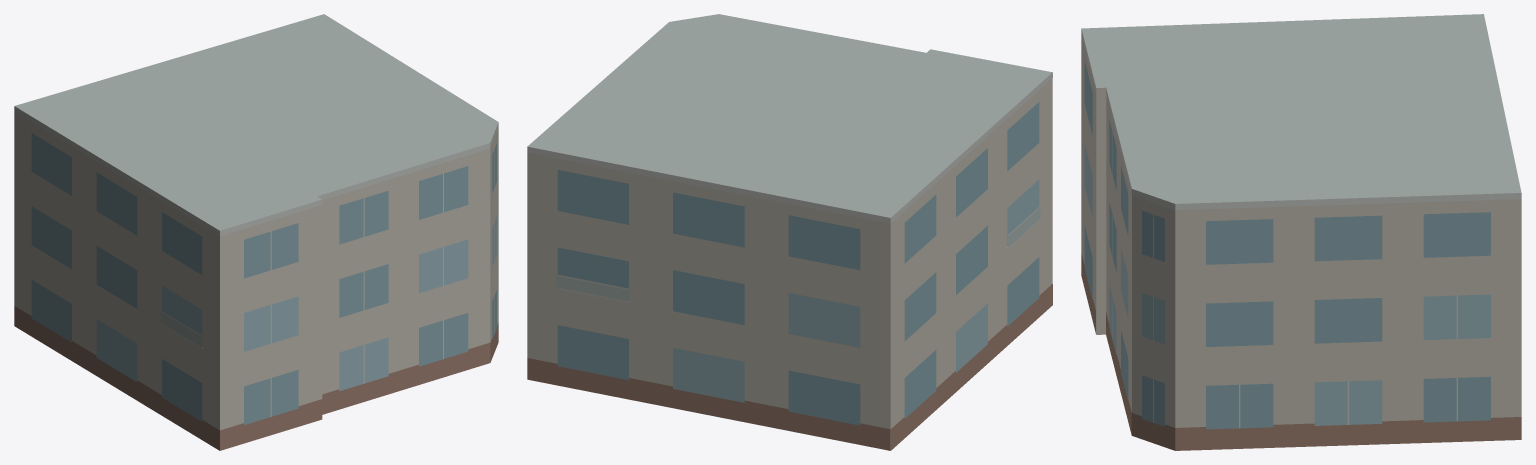
Rendered from survey-upis-32737181.glb.
3 renders of one model, left to right at view 1: azimuth 30°, elevation 25°; view 2: azimuth 150°, elevation 25°; view 3: azimuth 270°, elevation 25°, orthographic. The views are drawn at different scales.
Visible parts, largest first — view 1: survey-upis-32737181.tmp; view 2: survey-upis-32737181.tmp; view 3: survey-upis-32737181.tmp.
Boxes of the visible parts, <box> form: survey-upis-32737181.tmp: <box>14,14,498,450</box>; survey-upis-32737181.tmp: <box>527,14,1052,450</box>; survey-upis-32737181.tmp: <box>1081,14,1521,450</box>.
Size of the model in its own units: 16.01 by 9.7 by 15.68.
